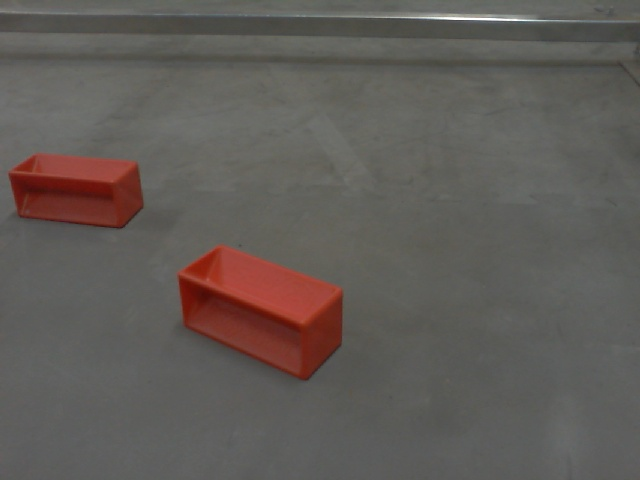RedSample: (176, 243, 345, 389), (7, 150, 145, 234)
